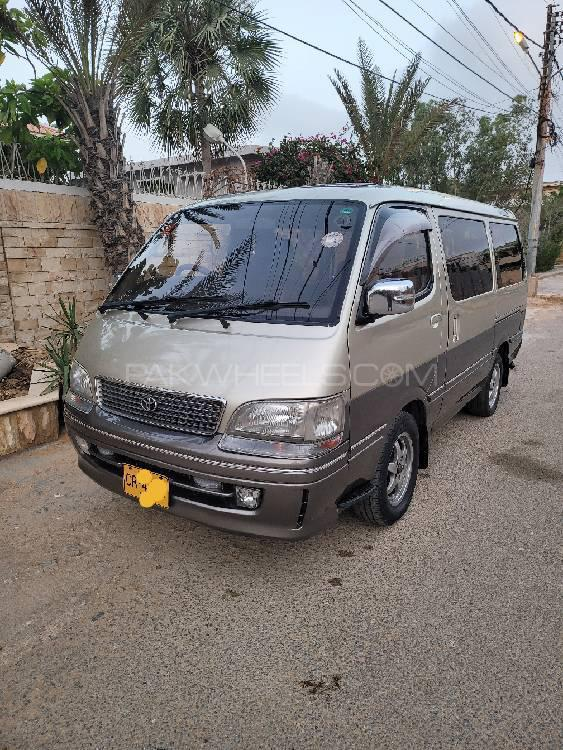van: (65, 180, 550, 580)
